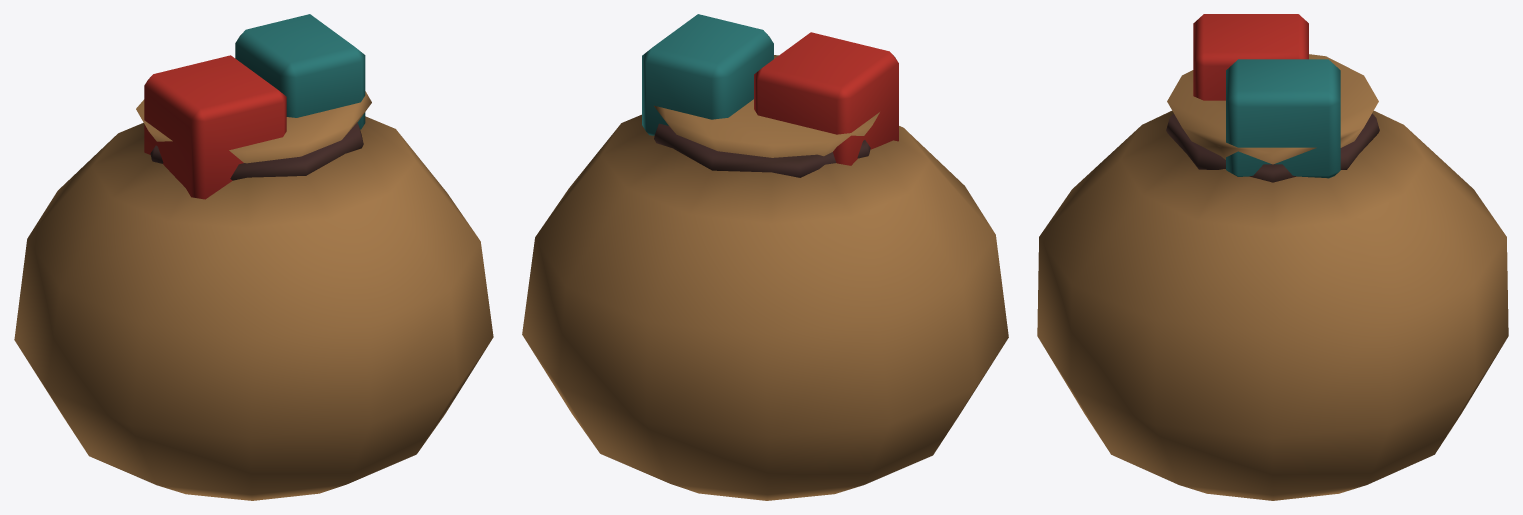
The model's file is cargo_sack.glb.
3 renders of one model, left to right at view 1: azimuth 30°, elevation 25°; view 2: azimuth 150°, elevation 25°; view 3: azimuth 270°, elevation 25°, orthographic.
Visible parts, largest first — view 1: cargo_sack; view 2: cargo_sack; view 3: cargo_sack.
Part boxes in pixels (x1,y1,x2,y2): cargo_sack: (14,14,493,500); cargo_sack: (522,14,1008,500); cargo_sack: (1037,14,1508,500).
Bounding box in the file's own units: 0.556 × 0.5005 × 0.5423.
